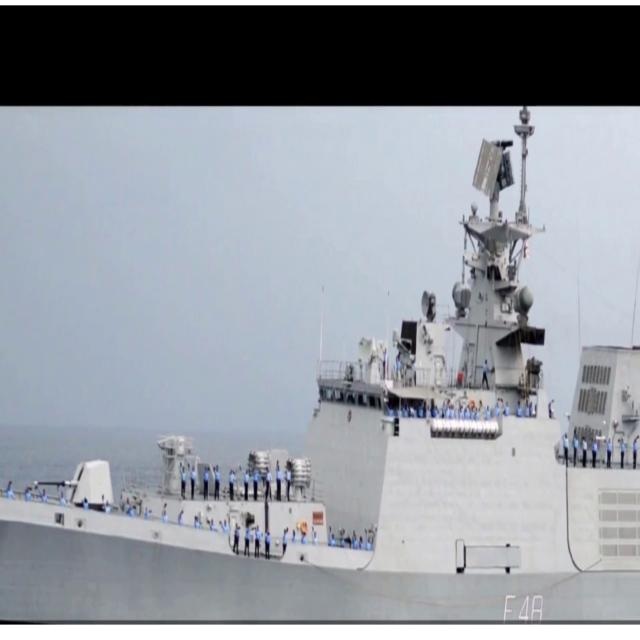OCR: (495, 588, 548, 624)
